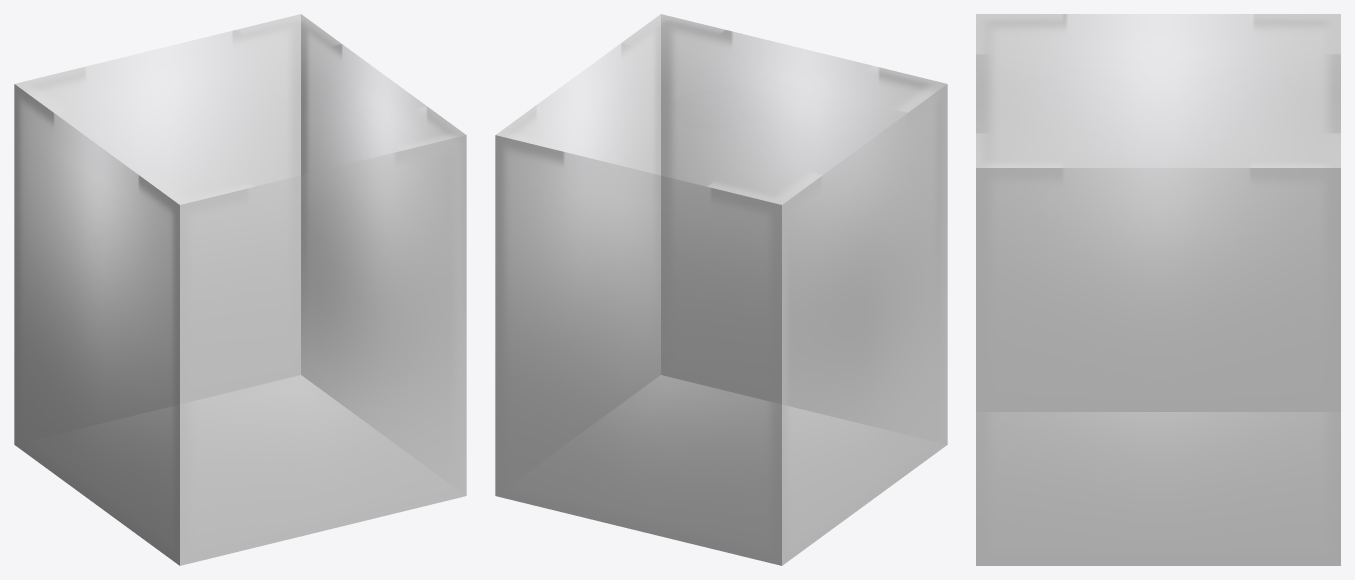
The model's file is TileHighlighter.fbx.
3 views of the same model, side by side, from view 1: azimuth 30°, elevation 25°; view 2: azimuth 150°, elevation 25°; view 3: azimuth 270°, elevation 25° (orthographic). The views are drawn at different scales.
Visible parts, largest first — view 1: TileHighlighter; view 2: TileHighlighter; view 3: TileHighlighter.
Part boxes in pixels (x1,y1,x2,y2): TileHighlighter: [14, 14, 466, 565]; TileHighlighter: [495, 14, 947, 565]; TileHighlighter: [976, 14, 1340, 565].
Size of the model in its own units: 100 by 120 by 100.
